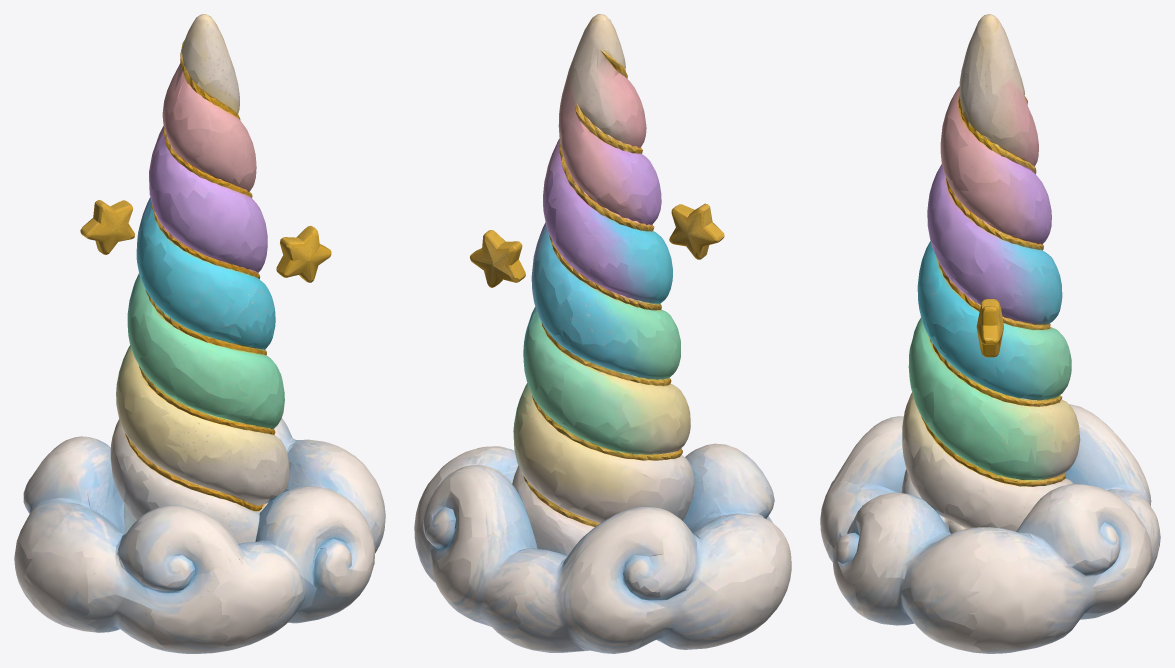
The model's file is unicorn_horn.glb.
3 views of the same model, side by side, from view 1: azimuth 30°, elevation 25°; view 2: azimuth 150°, elevation 25°; view 3: azimuth 270°, elevation 25° (orthographic).
Visible parts, largest first — view 1: Mesh_0; view 2: Mesh_0; view 3: Mesh_0.
Boxes of the visible parts, x1=… form: Mesh_0: x1=14, y1=14, x2=385, y2=653; Mesh_0: x1=414, y1=14, x2=791, y2=653; Mesh_0: x1=820, y1=14, x2=1160, y2=653.
Bounding box in the file's own units: 0.6229 × 1 × 0.5349.
Materials: 1 (1 with a texture image).
